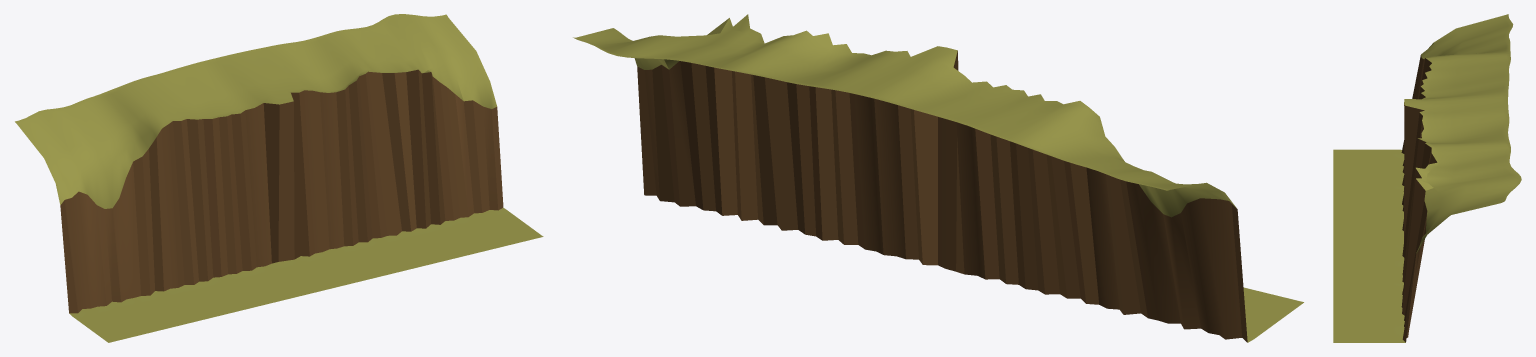
The model's file is Cliff.fbx.
3 renders of one model, left to right at view 1: azimuth 30°, elevation 25°; view 2: azimuth 150°, elevation 25°; view 3: azimuth 270°, elevation 25°, orthographic. The views are drawn at different scales.
Parts seen in each view (by area): view 1: Cliff; view 2: Cliff; view 3: Cliff.
Part boxes in pixels (x1,y1,x2,y2): Cliff: [15, 14, 543, 342]; Cliff: [573, 14, 1303, 342]; Cliff: [1333, 14, 1521, 342].
Size of the model in its own units: 2802 by 1155 by 1015.
